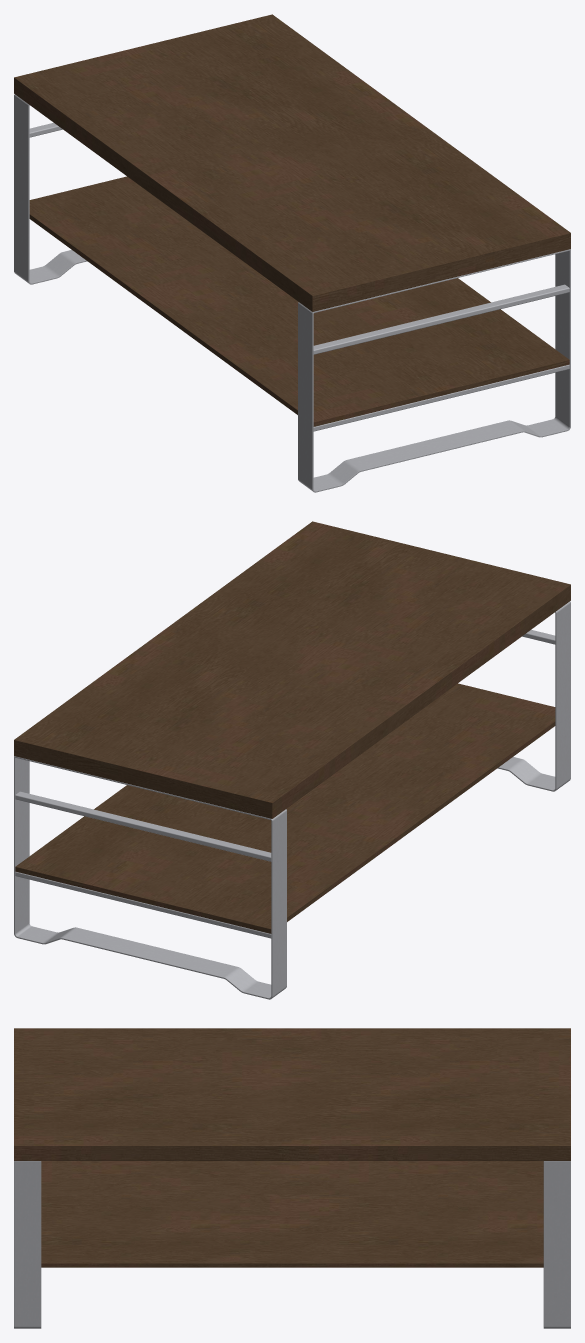
3 renders of one model, top to bottom at view 1: azimuth 30°, elevation 25°; view 2: azimuth 150°, elevation 25°; view 3: azimuth 270°, elevation 25°, orthographic. The views are drawn at different scales.
Parts seen in each view (by area): view 1: part_02, part_01; view 2: part_02, part_01; view 3: part_02, part_01.
Part boxes in pixels (box(x1,y1,x2,y2)): part_02: box(14, 14, 570, 426); part_01: box(14, 94, 570, 492); part_02: box(14, 521, 570, 933); part_01: box(14, 601, 570, 999); part_02: box(14, 1028, 570, 1267); part_01: box(14, 1161, 570, 1328).
Bounding box in the file's own units: 0.6 × 0.4427 × 1.2.
Materials: 3 (3 with a texture image).
